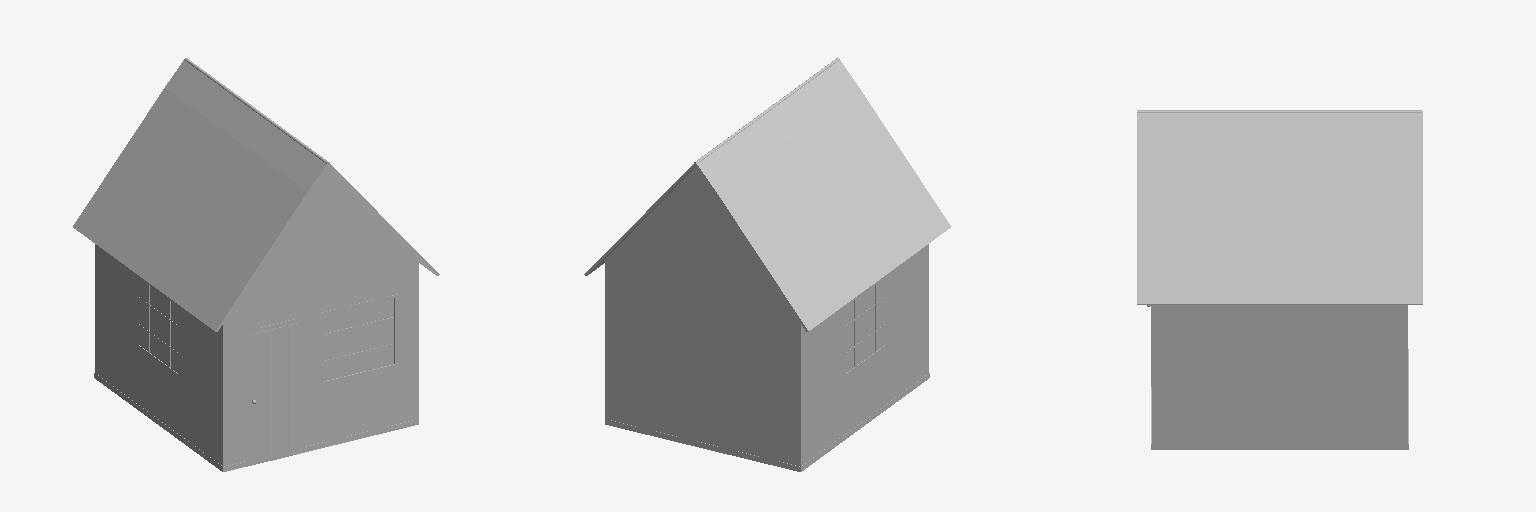
Rendered from CasaSimplesT.obj.
The picture shows the model from 3 angles: view 1: azimuth 30°, elevation 25°; view 2: azimuth 150°, elevation 25°; view 3: azimuth 270°, elevation 25°; orthographic projection.
Visible parts, largest first — view 1: Casa_Cube.003; view 2: Casa_Cube.003; view 3: Casa_Cube.003.
Part boxes in pixels (x1,y1,x2,y2): Casa_Cube.003: (73,58,439,471); Casa_Cube.003: (584,58,950,471); Casa_Cube.003: (1137,110,1422,449).
Size of the model in its own units: 7.28 by 9.05 by 8.03.